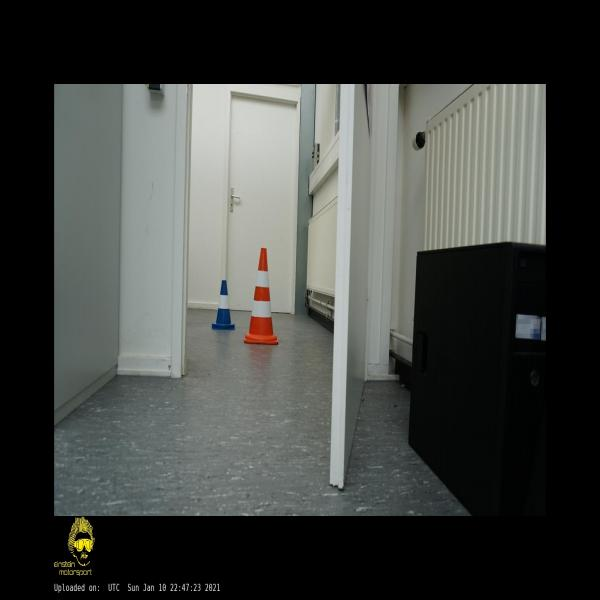blue_cone: (212, 280, 236, 331)
large_orange_cone: (244, 248, 278, 345)
